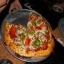pepper: (17, 33, 27, 42), (34, 38, 40, 49)
pizza: (6, 10, 54, 57)
